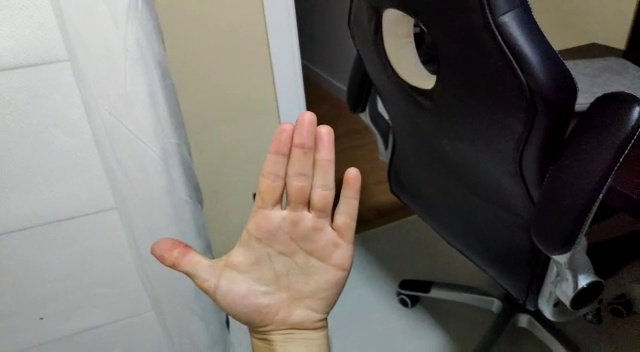Palm: (149, 106, 363, 333)
